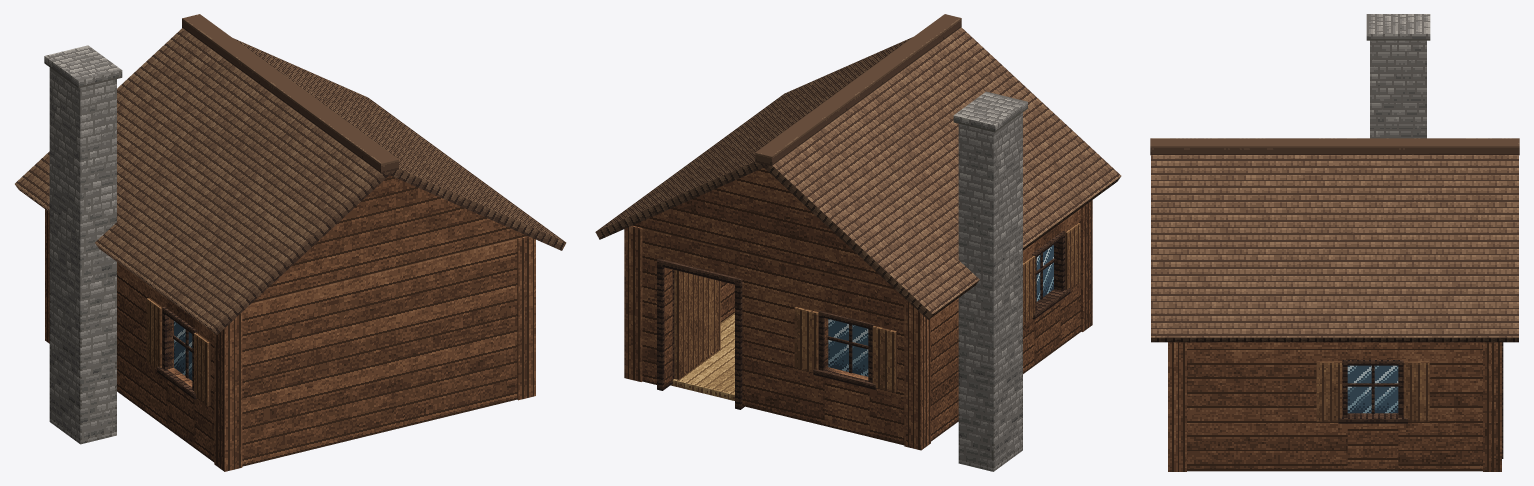
File: cabin.glb
3 views of the same model, side by side, from view 1: azimuth 30°, elevation 25°; view 2: azimuth 150°, elevation 25°; view 3: azimuth 270°, elevation 25° (orthographic). The views are drawn at different scales.
Visible parts, largest first — view 1: cabin; view 2: cabin; view 3: cabin.
Part boxes in pixels (box(x1,y1,x2,y2)): cabin: box(15, 14, 566, 471); cabin: box(595, 14, 1121, 471); cabin: box(1150, 14, 1519, 471).
Size of the model in its own units: 6.28 by 5.9 by 5.82.
11 materials, 11 textured.
